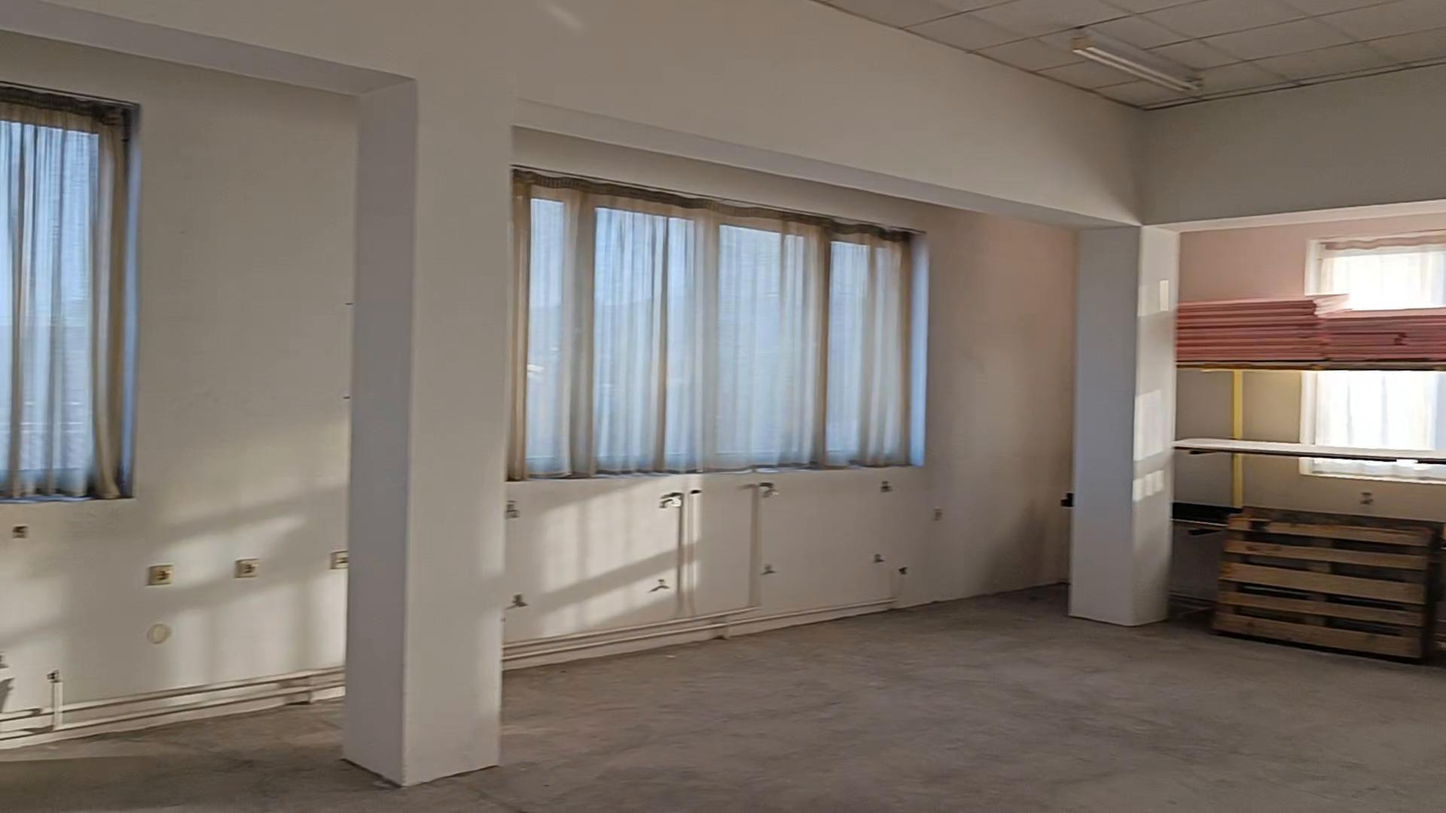ceiling: (816, 0, 1445, 108)
floor: (0, 588, 1445, 812)
wall: (0, 0, 1445, 784), (513, 470, 919, 662)
